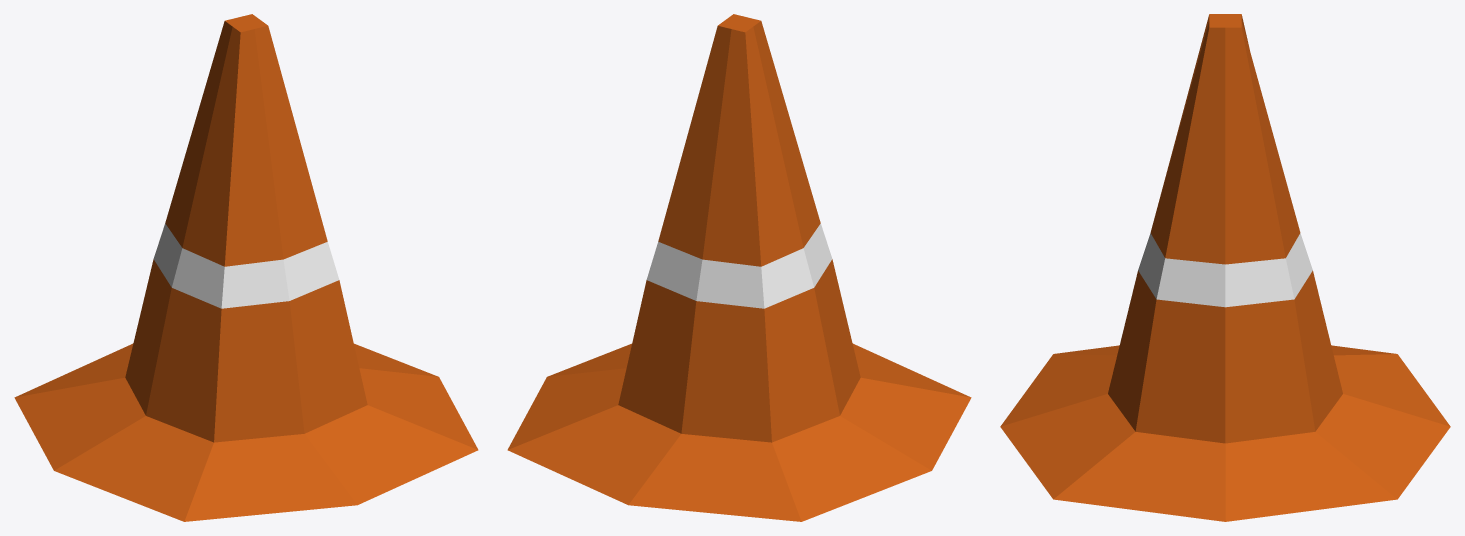
File: Traffic_Cone.fbx
3 views of the same model, side by side, from view 1: azimuth 30°, elevation 25°; view 2: azimuth 150°, elevation 25°; view 3: azimuth 270°, elevation 25° (orthographic).
Visible parts, largest first — view 1: TrafficCone; view 2: TrafficCone; view 3: TrafficCone.
Part boxes in pixels (box(x1,y1,x2,y2)): TrafficCone: box(14, 14, 478, 521); TrafficCone: box(507, 14, 971, 521); TrafficCone: box(1000, 14, 1450, 521).
Size of the model in its own units: 0.3499 by 0.3478 by 0.3499.
